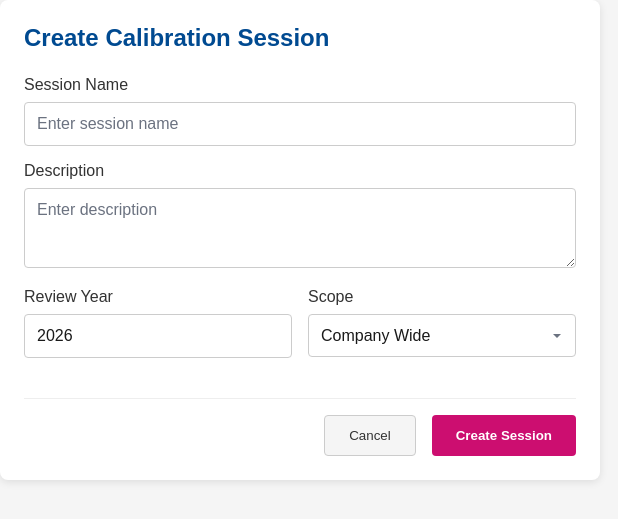
Test: CalibrationSessionForm › validation › should show error when year is empty on submit
# Fill in name but not year
Type "Test Session" into the field named "name" at [300, 124], box [24, 102, 576, 146]
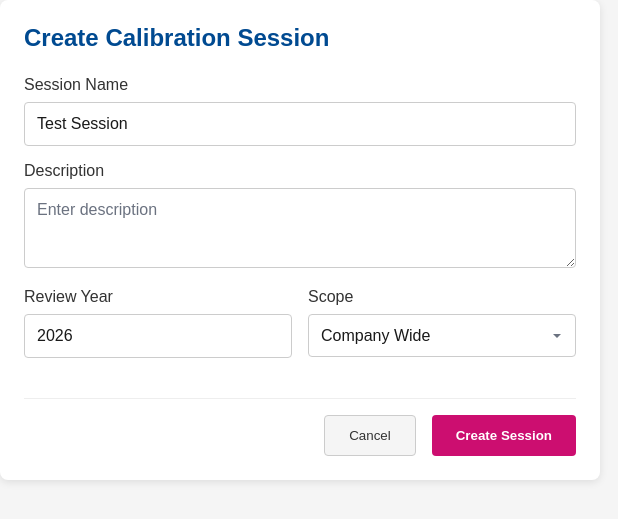
Clear the number field named "reviewYear" at [158, 336], box [24, 314, 292, 358]
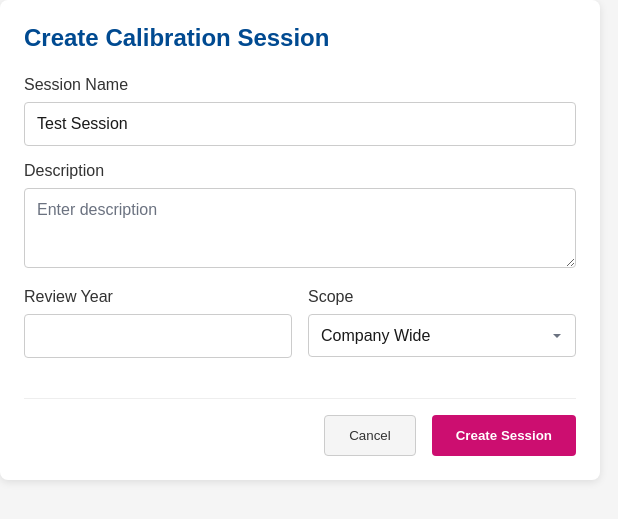
Submit the form
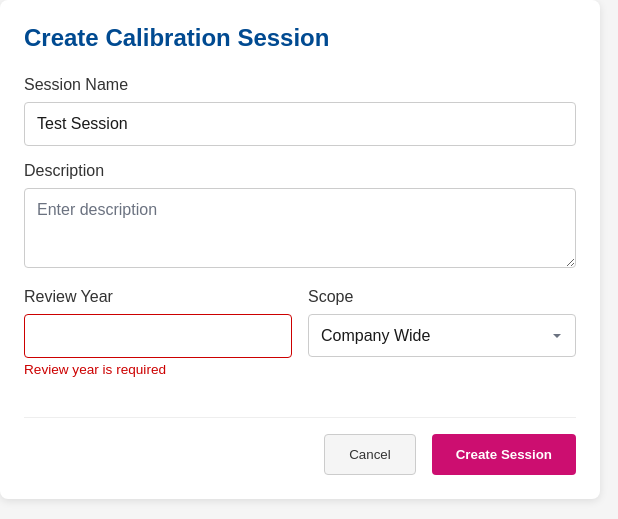
Result: the text "Review year is required" is shown at [24, 362, 166, 377]
